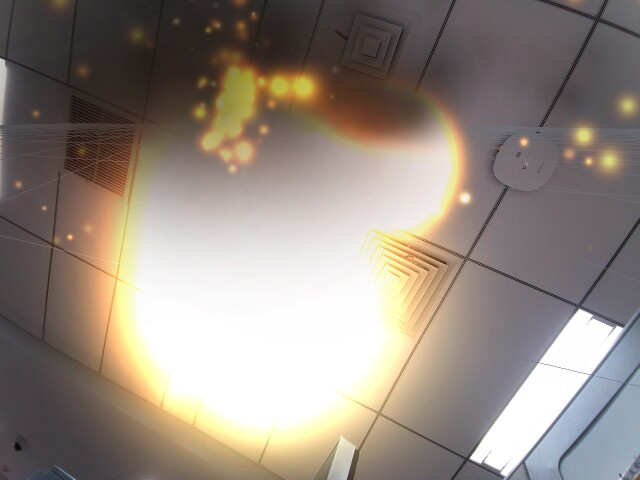fire: (107, 84, 402, 441), (307, 77, 464, 243)
